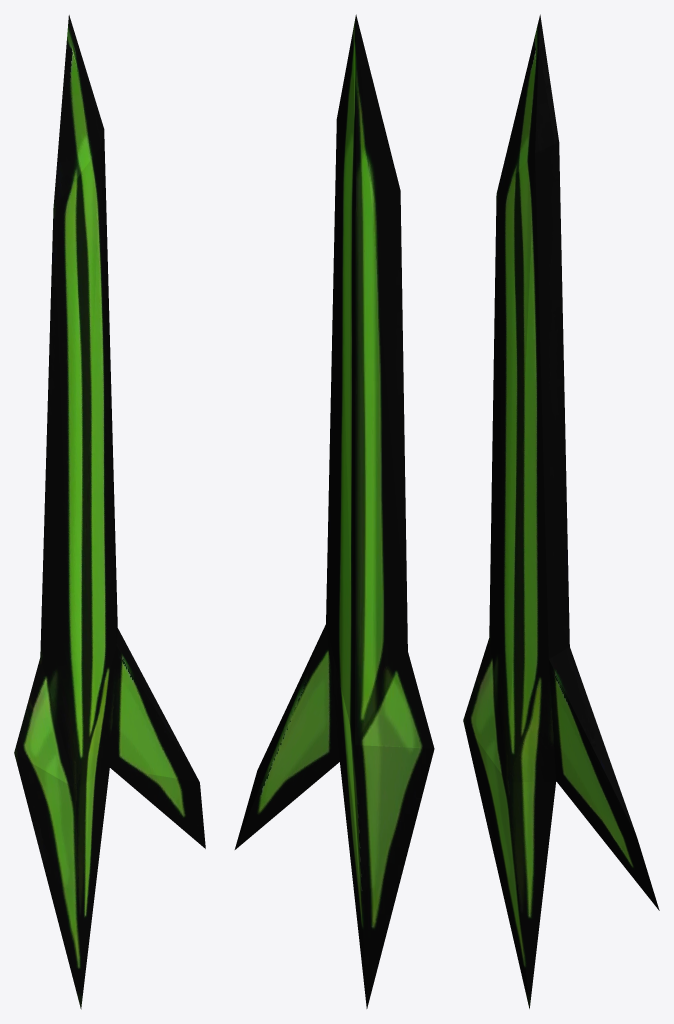
The model's file is spear_projectile_2.glb.
3 views of the same model, side by side, from view 1: azimuth 30°, elevation 25°; view 2: azimuth 150°, elevation 25°; view 3: azimuth 330°, elevation 25° (orthographic).
Bounding box in the file's own units: 0.4101 × 1.99 × 0.0773.
Materials: 1 (1 with a texture image).
